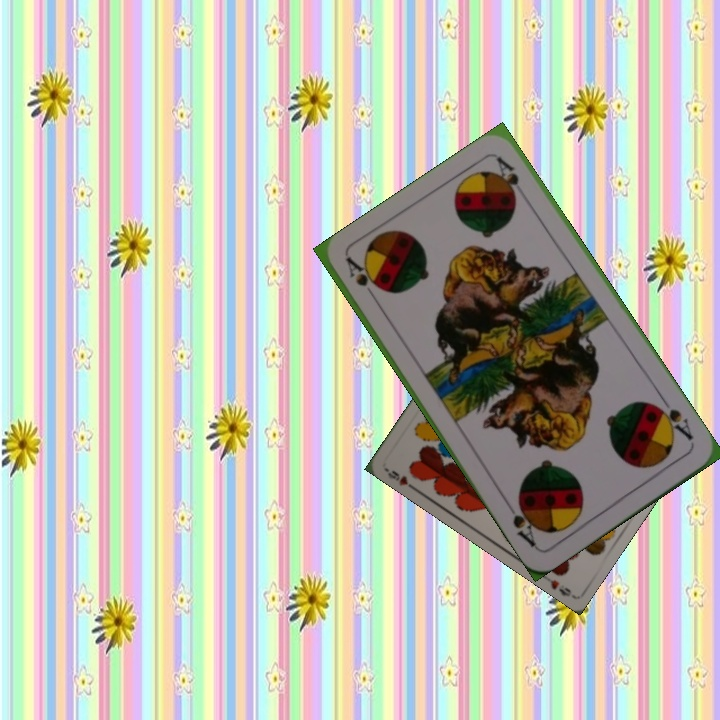H9: (382, 465, 418, 493)
SA: (649, 393, 697, 443), (342, 253, 380, 292)
